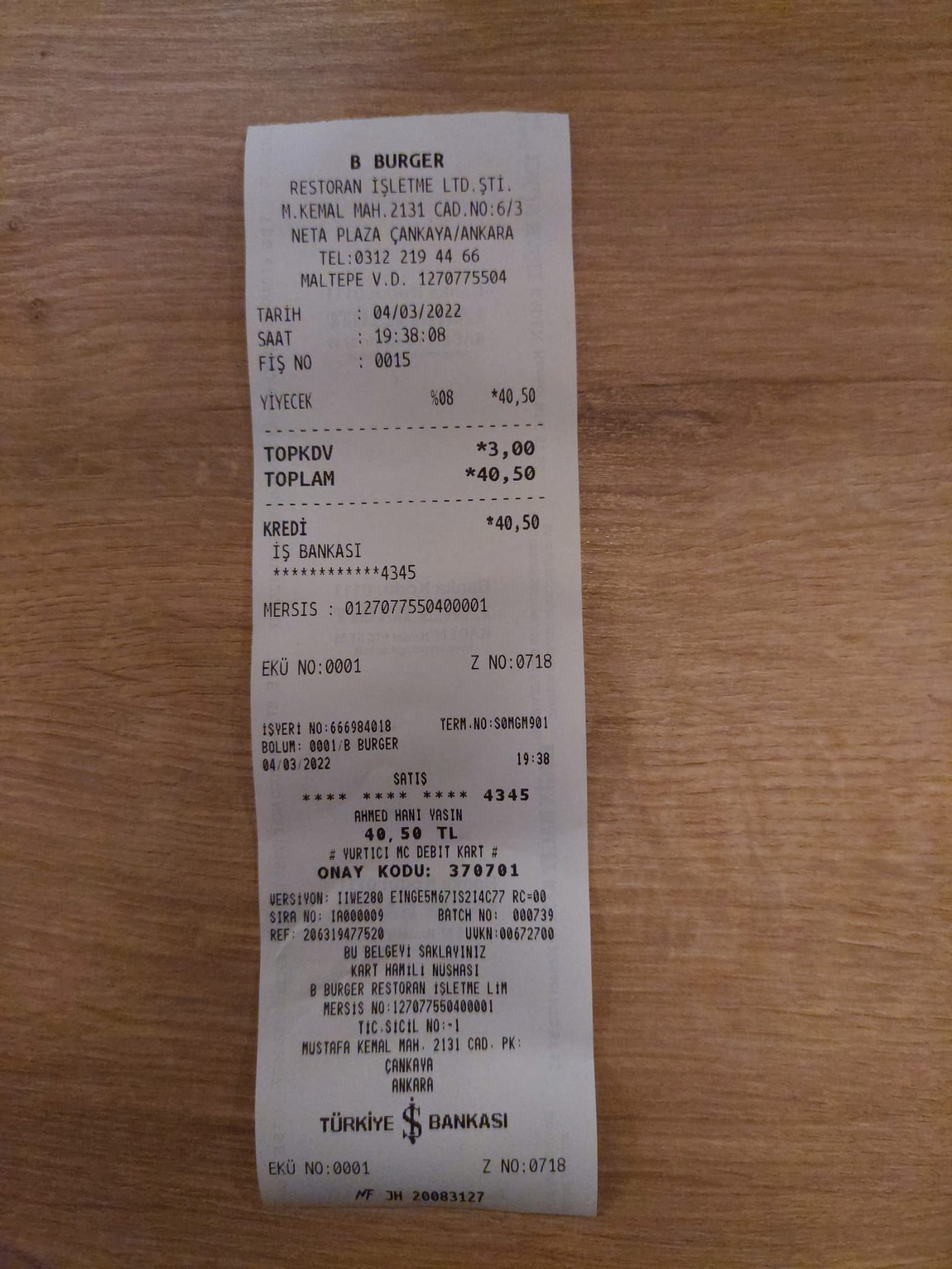date: (476, 459, 549, 494)
price: (365, 297, 468, 325)
workplace: (268, 147, 540, 246)
